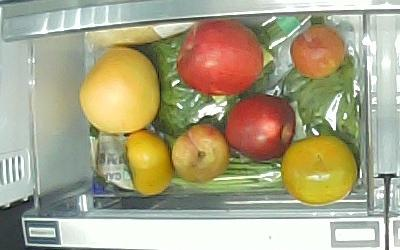apple: (176, 18, 264, 97), (226, 95, 296, 162)
grapefruit: (79, 47, 161, 134)
persimmon: (282, 135, 357, 205), (125, 131, 174, 196)
prune: (172, 124, 230, 183), (291, 24, 345, 79)
